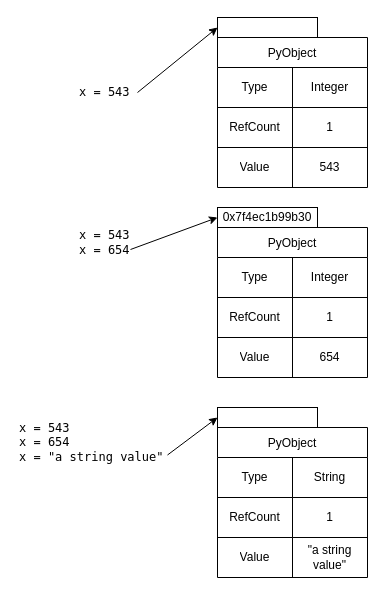
Image size: 385x595. Some labels were removed from this diagram. Each missing label, with the centre of its shape:
"0x7f4ec1b99b50" belongs at point 267,27.
"0x7f4ec1b99b69" belongs at point 267,417.
